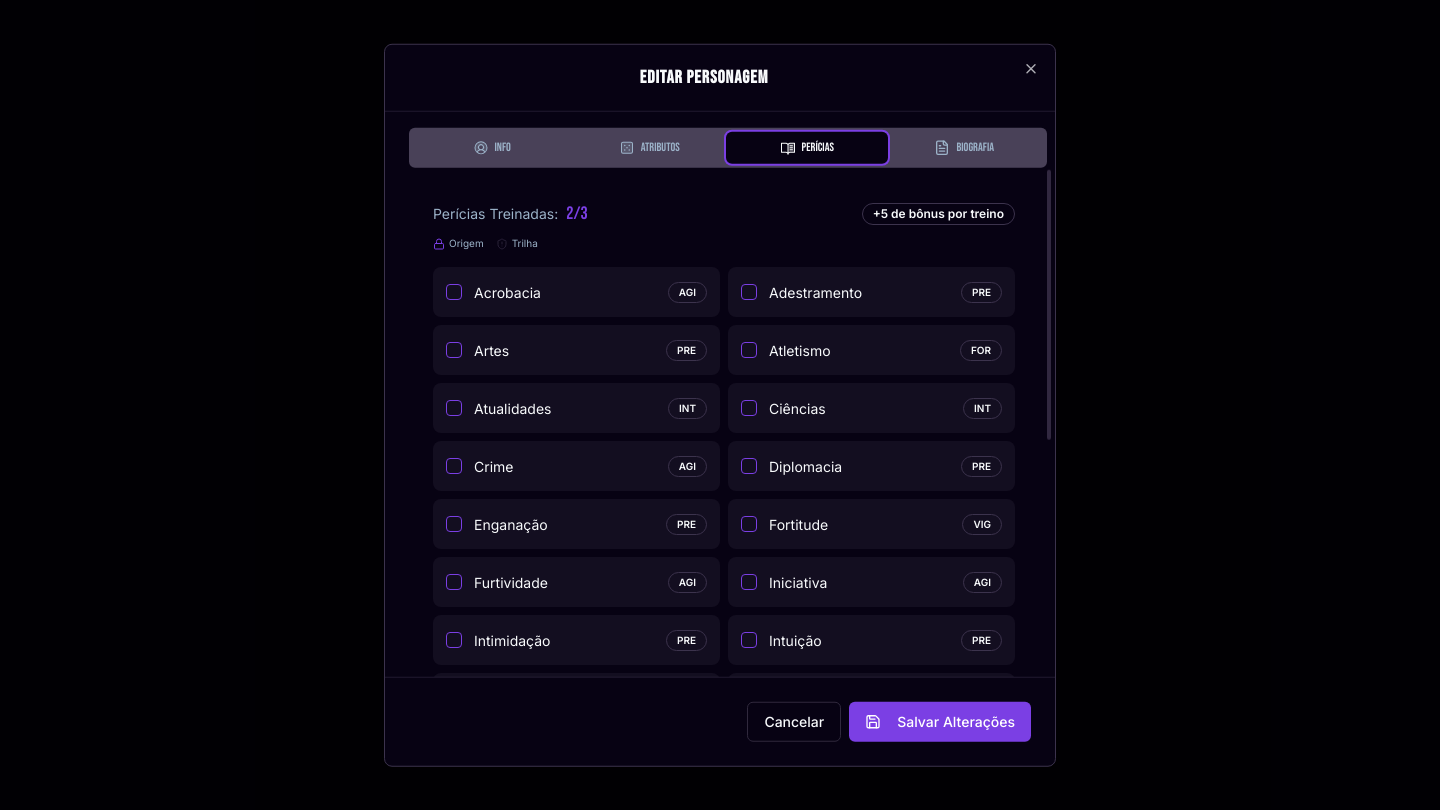
it: Confirmação, ajuda e treinamento na edição da ficha › um clique no checkbox muda o treinamento somente uma vez
This screenshot has width=1440, height=810.
Click the checkbox named "Treinar Ciências" at (749, 408), box [741,400,757,416]
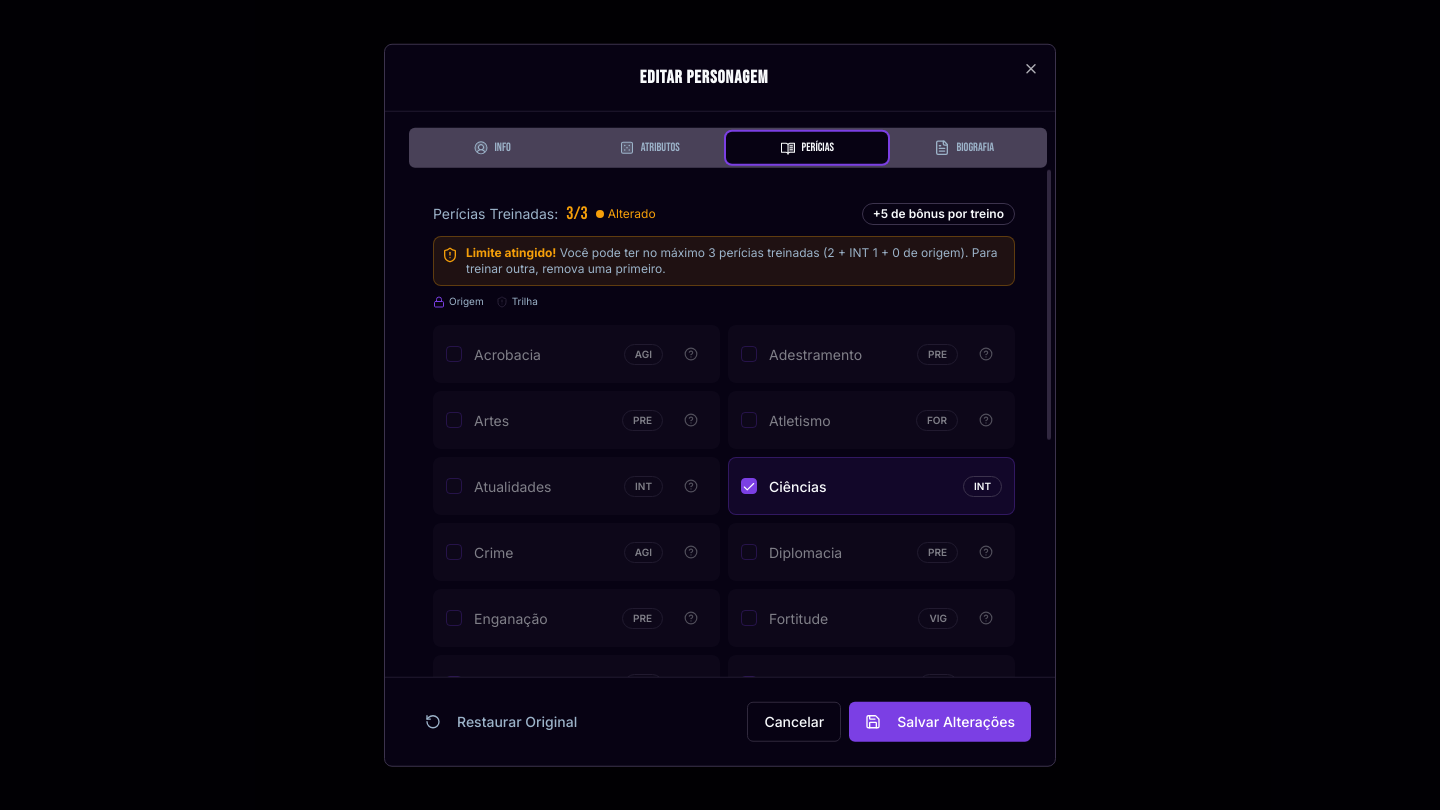
Expected: the checkbox named "Treinar Ciências" is checked
Click the checkbox named "Treinar Ciências" at (749, 486), box [741,478,757,494]
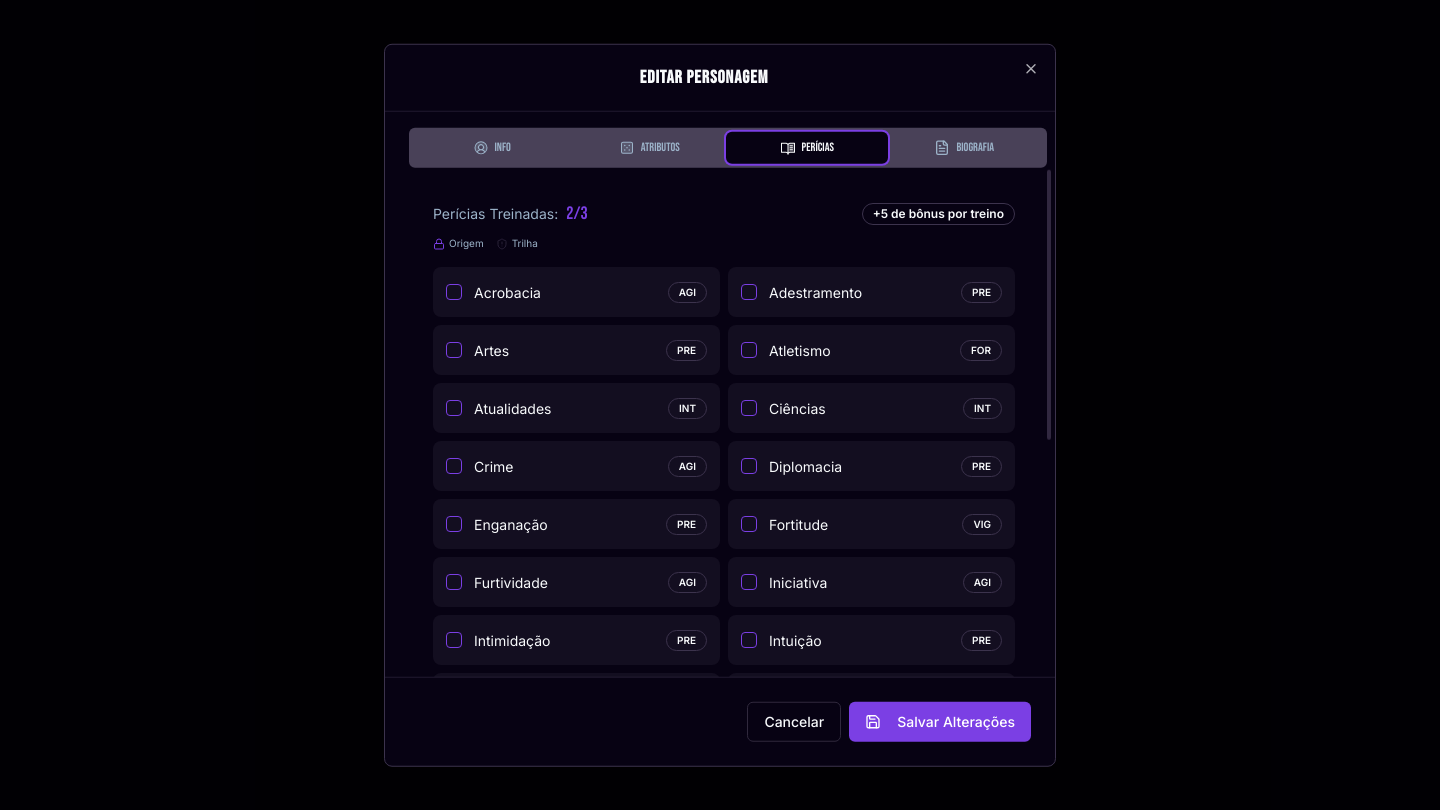
Expected: the checkbox named "Treinar Ciências" is not checked, [741,400,757,416]
